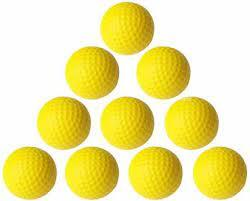Ball: (193, 146, 248, 200), (99, 96, 155, 149), (64, 47, 121, 99), (127, 147, 184, 199), (36, 96, 91, 149), (165, 97, 220, 150), (2, 147, 57, 200), (65, 147, 120, 199), (100, 2, 154, 53), (137, 47, 189, 99)
